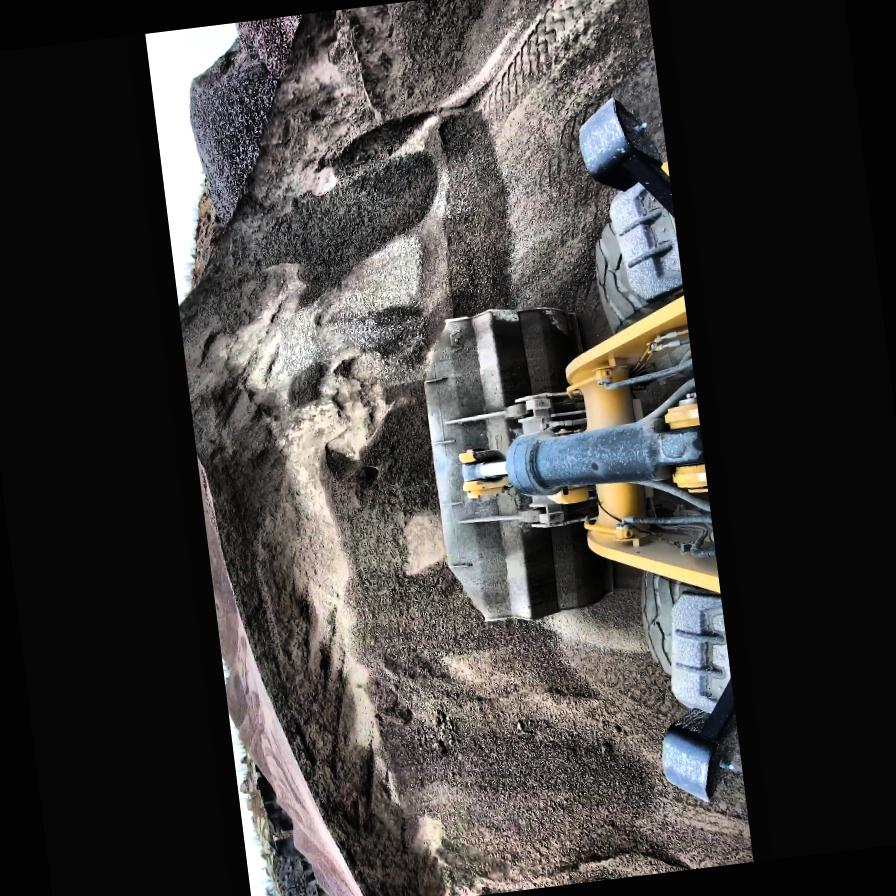anchor: (457, 446, 512, 500)
pile of gravel: (144, 0, 645, 896), (175, 13, 340, 229)
